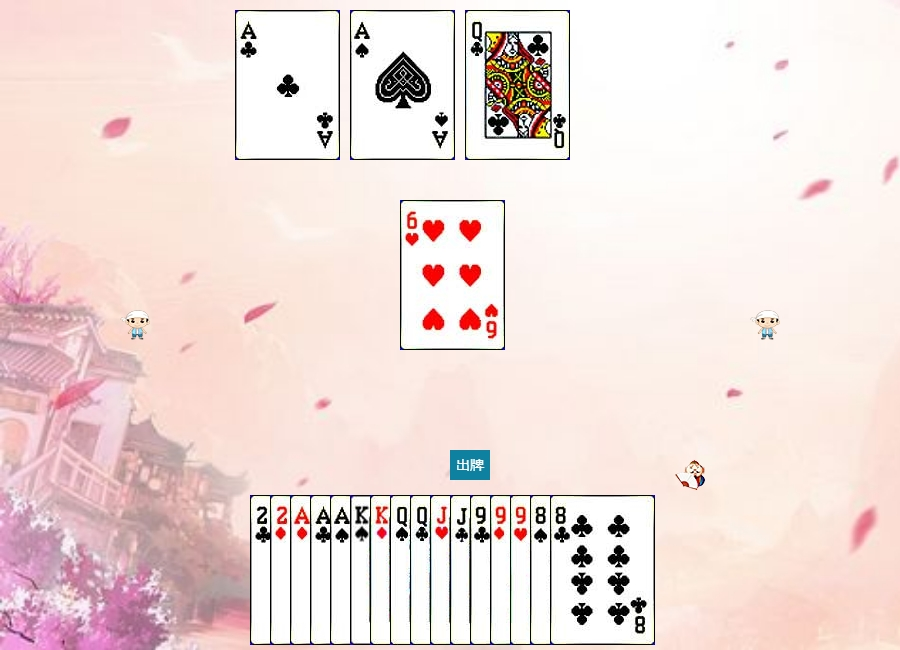11~2: (450, 495, 555, 645)
11~3: (430, 495, 535, 645)
12~2: (465, 10, 570, 160), (410, 495, 515, 645)
12~4: (390, 495, 495, 645)
13~1: (370, 495, 475, 645)
13~4: (350, 495, 455, 645)
14~1: (290, 495, 395, 645)
14~2: (235, 10, 340, 160), (310, 495, 415, 645)
14~4: (350, 10, 455, 160), (330, 495, 435, 645)
15~1: (270, 495, 375, 645)
15~2: (250, 495, 355, 645)
6~3: (400, 200, 505, 350)
8~2: (550, 495, 655, 645)
8~4: (530, 495, 635, 645)
9~1: (490, 495, 595, 645)
9~2: (470, 495, 575, 645)
9~3: (510, 495, 615, 645)
